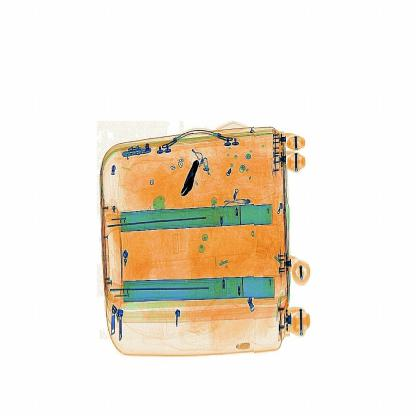knife: (173, 154, 207, 212)
